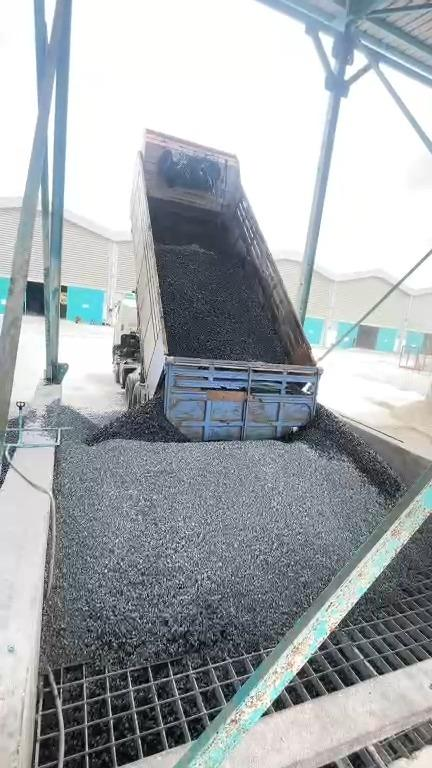gravel: (40, 375, 404, 667), (156, 228, 291, 363), (355, 519, 431, 614), (0, 446, 11, 489), (22, 408, 38, 428), (5, 431, 20, 443), (7, 446, 17, 462), (7, 416, 19, 428)
sand: (353, 395, 431, 456)
